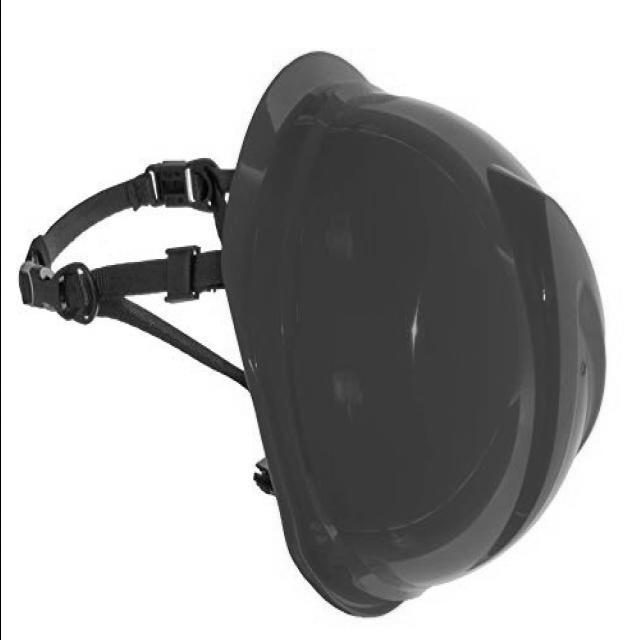safety_helmet: (15, 48, 604, 620)
